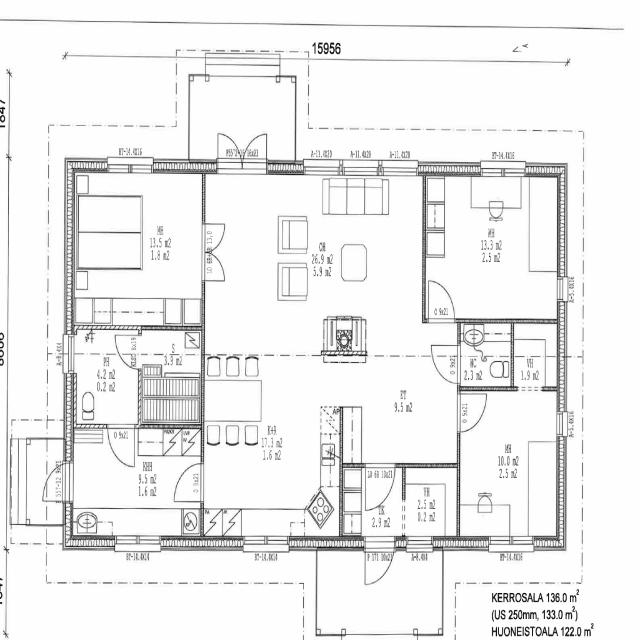door: (365, 536, 395, 592), (35, 462, 72, 502), (365, 464, 395, 509), (242, 128, 267, 177), (217, 128, 242, 177), (457, 393, 488, 432), (430, 345, 460, 384), (174, 464, 204, 502), (108, 424, 134, 466), (428, 281, 454, 323), (200, 252, 223, 281), (200, 224, 223, 252), (120, 364, 142, 390)
